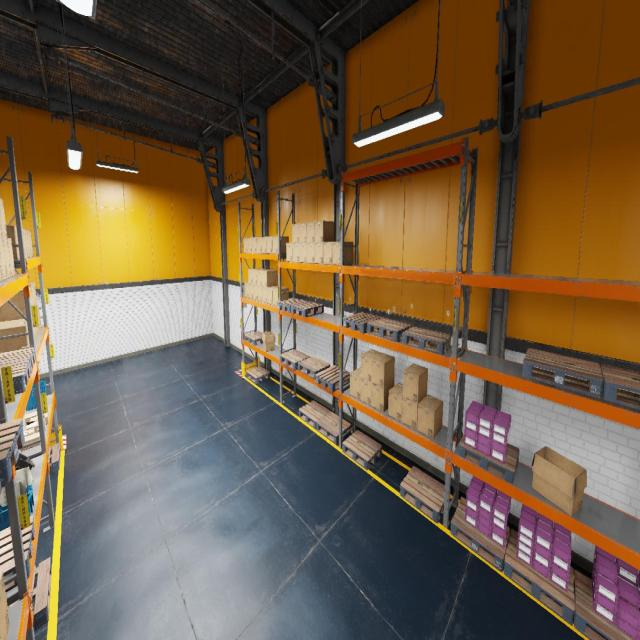box: (531, 446, 587, 516), (417, 395, 443, 439), (402, 363, 428, 403), (0, 289, 31, 321), (0, 321, 29, 352), (402, 394, 426, 430), (372, 353, 394, 388), (360, 349, 382, 382), (371, 381, 394, 412), (0, 571, 9, 639), (388, 383, 403, 422), (6, 225, 20, 259), (332, 242, 353, 264), (315, 220, 334, 242), (20, 432, 40, 451), (26, 414, 46, 432), (360, 378, 372, 406), (350, 367, 360, 400), (3, 238, 11, 278), (7, 238, 15, 276), (272, 287, 288, 306), (0, 237, 7, 279), (0, 197, 7, 238), (272, 236, 288, 253), (24, 412, 43, 426), (262, 332, 275, 352), (267, 286, 281, 304), (262, 270, 277, 286), (252, 268, 265, 285), (30, 413, 49, 424), (248, 268, 261, 284), (257, 269, 269, 286), (323, 242, 332, 264), (29, 283, 37, 307), (315, 242, 323, 264), (22, 229, 28, 257), (307, 242, 315, 263), (0, 319, 27, 325), (299, 222, 307, 242), (299, 243, 307, 262), (25, 230, 30, 258), (307, 222, 314, 242), (292, 224, 299, 242), (29, 285, 35, 305), (293, 243, 299, 262), (22, 229, 26, 257), (23, 428, 35, 437), (286, 243, 292, 261), (28, 230, 32, 256), (37, 304, 41, 330), (266, 236, 272, 253), (29, 231, 33, 256), (262, 286, 267, 303), (257, 286, 262, 302), (244, 282, 249, 298), (252, 237, 257, 253), (0, 255, 3, 281), (29, 286, 33, 305), (37, 308, 40, 333), (0, 213, 3, 237), (243, 238, 248, 252), (262, 236, 266, 253), (253, 284, 257, 300), (257, 237, 261, 253), (248, 284, 252, 299), (248, 238, 252, 252), (33, 327, 35, 342), (34, 327, 36, 341), (36, 327, 38, 337)
pallets: (504, 528, 574, 624), (574, 570, 640, 640), (450, 496, 510, 572), (522, 348, 603, 398), (8, 558, 52, 630), (458, 435, 519, 484), (0, 516, 35, 592), (400, 466, 444, 523), (600, 364, 640, 409), (0, 418, 25, 487), (342, 430, 382, 470), (402, 326, 451, 354), (316, 412, 351, 444), (367, 318, 412, 342), (1, 360, 31, 394), (316, 365, 350, 392), (0, 347, 35, 373), (299, 400, 330, 429), (343, 312, 383, 333), (298, 356, 330, 379), (280, 350, 310, 370), (290, 302, 324, 317), (246, 366, 270, 384), (277, 299, 309, 312), (48, 442, 61, 473), (244, 332, 263, 346), (0, 478, 1, 493)
